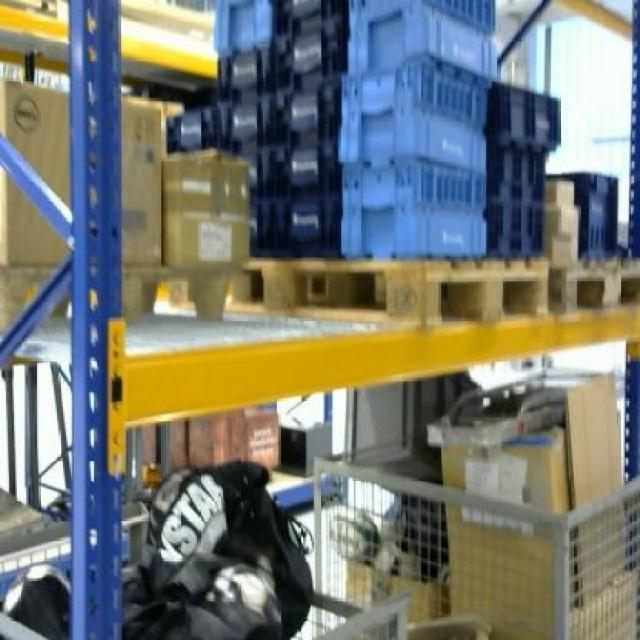box: (5, 80, 160, 262), (447, 440, 558, 638), (164, 153, 248, 264)
